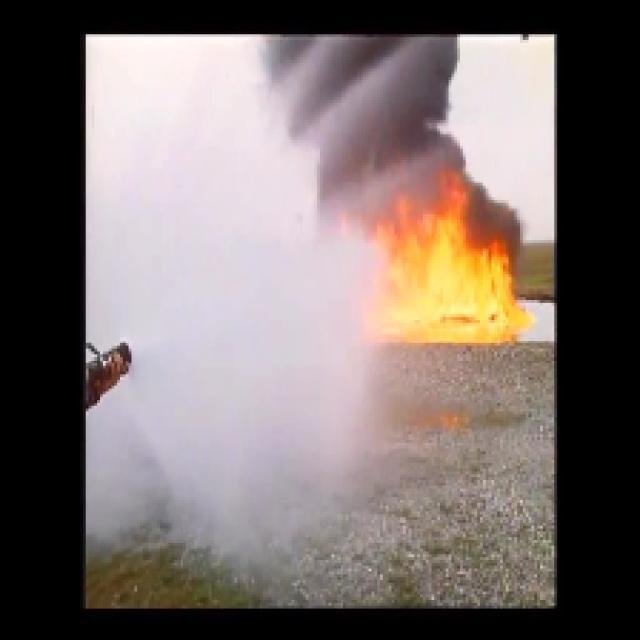Fire: (354, 174, 523, 346)
Smoke: (263, 37, 468, 203)
